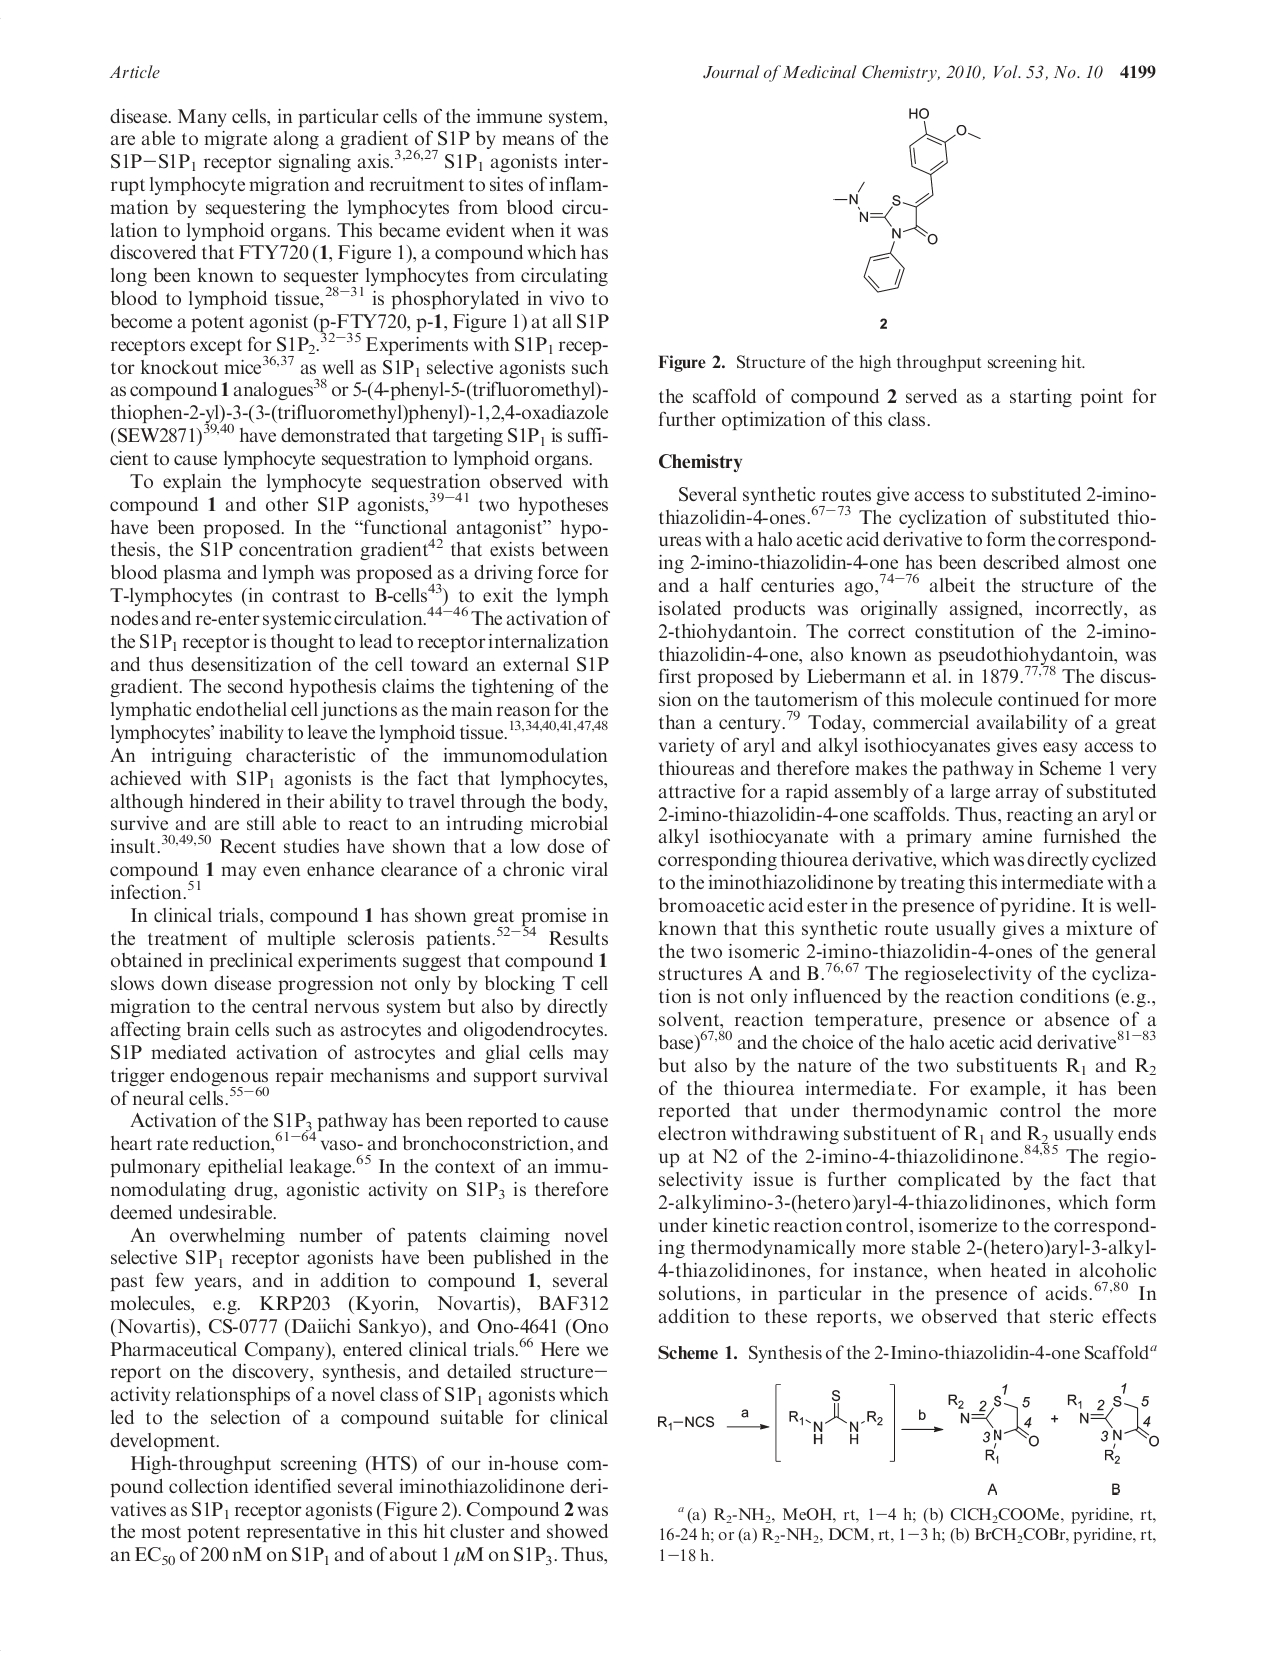exist_molecular: (828, 101, 993, 301), (942, 1386, 1041, 1464), (1065, 1376, 1150, 1468), (786, 1388, 884, 1450)
